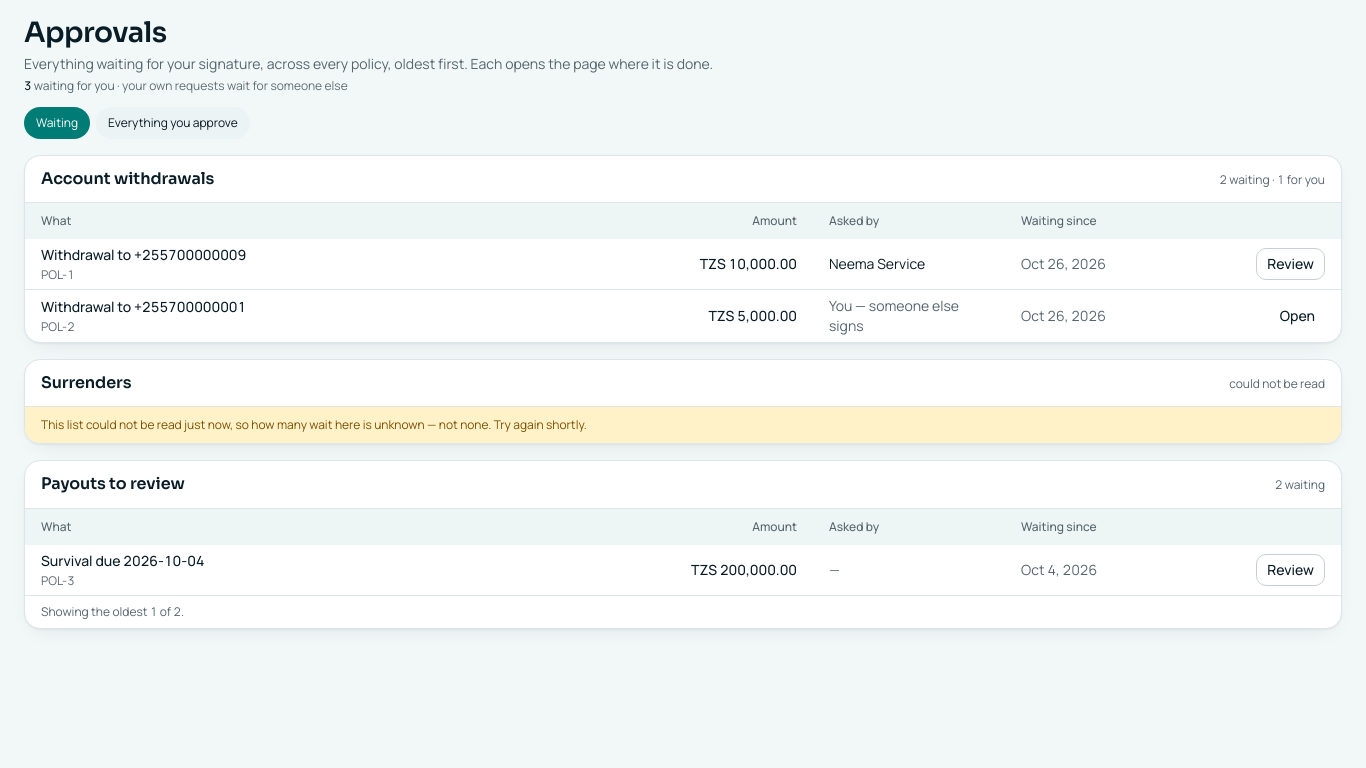
Test: ApprovalsPage › hides kinds with nothing waiting until asked for everything
Expected: the element "Account withdrawals" is shown, [24,155,1342,343]
Expected: the element "Fund prices" is not shown
Click the button "Everything you approve". click: (173, 123)
box: [96,107,250,139]
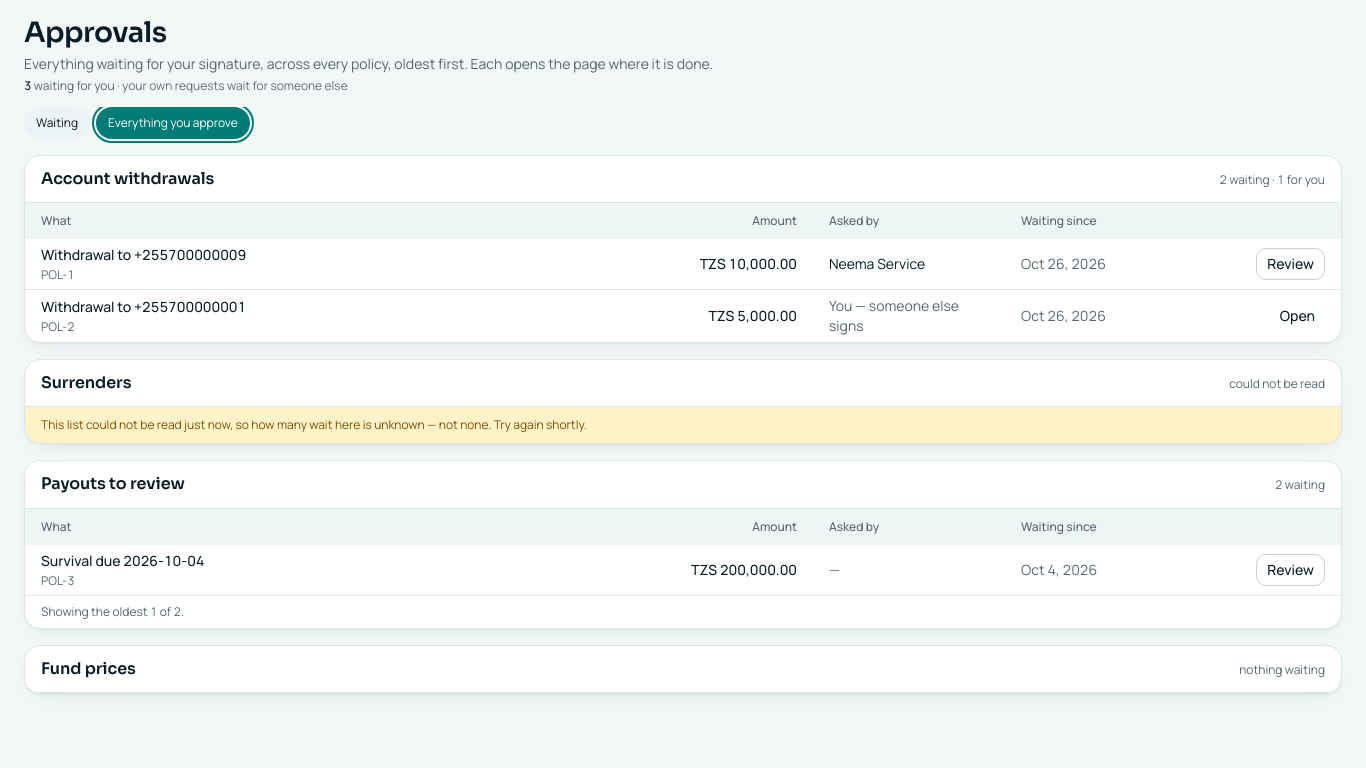
Now the text "nothing waiting" is shown, box [1239,662,1325,678]
